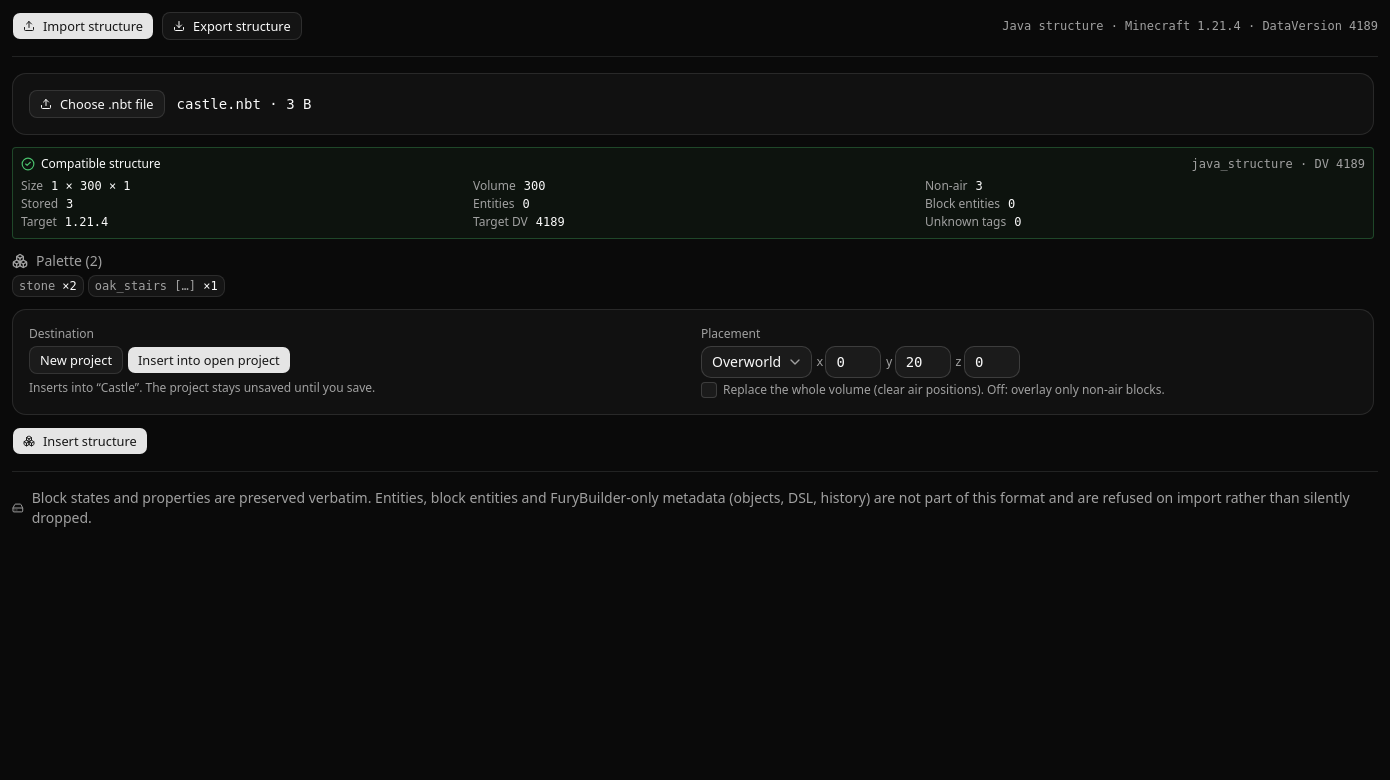
structure exchange › recomputes the default when placing a tall structure in a different dimension
This screenshot has width=1390, height=780.
Earlier steps of the test are not shown.
Expected: the number field named "Origin y" holds "20", [895,346,951,378]
Click the dropdown named "Import dimension".
click(757, 362)  # box [701,346,812,378]
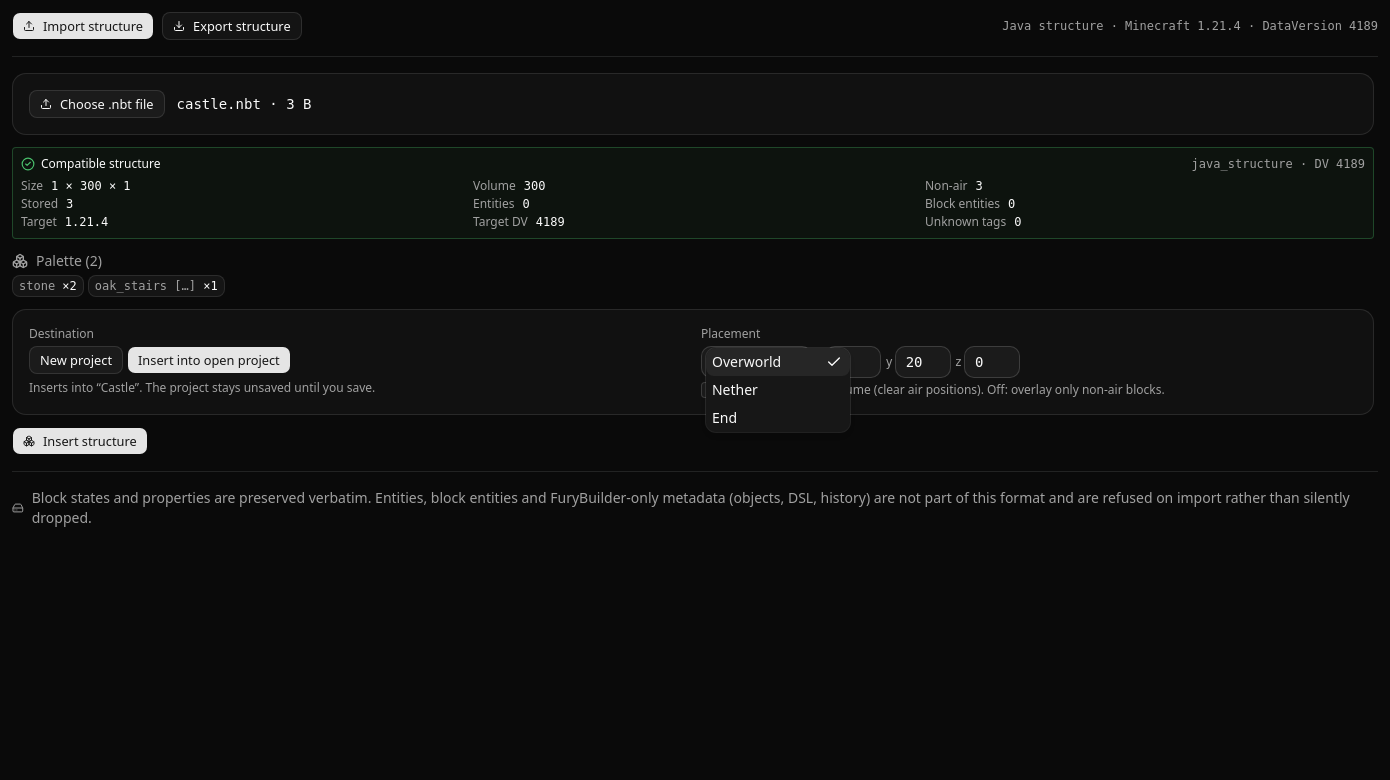
Click the option "End".
click(724, 418)  # box [712,408,737,427]
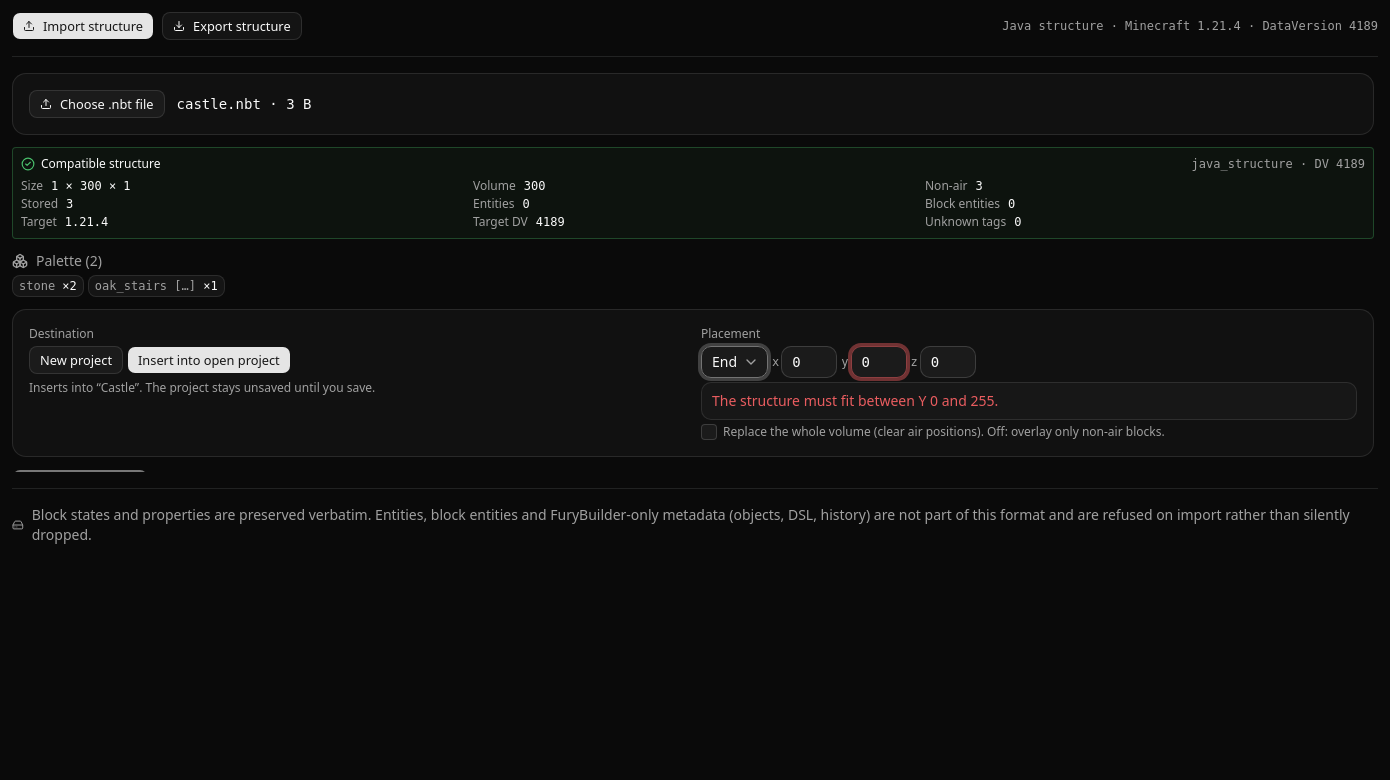
Expected: the number field named "Origin y" holds "0", [850,346,906,378]
Click the dropdown named "Import dimension".
click(734, 362)  # box [701,346,768,378]
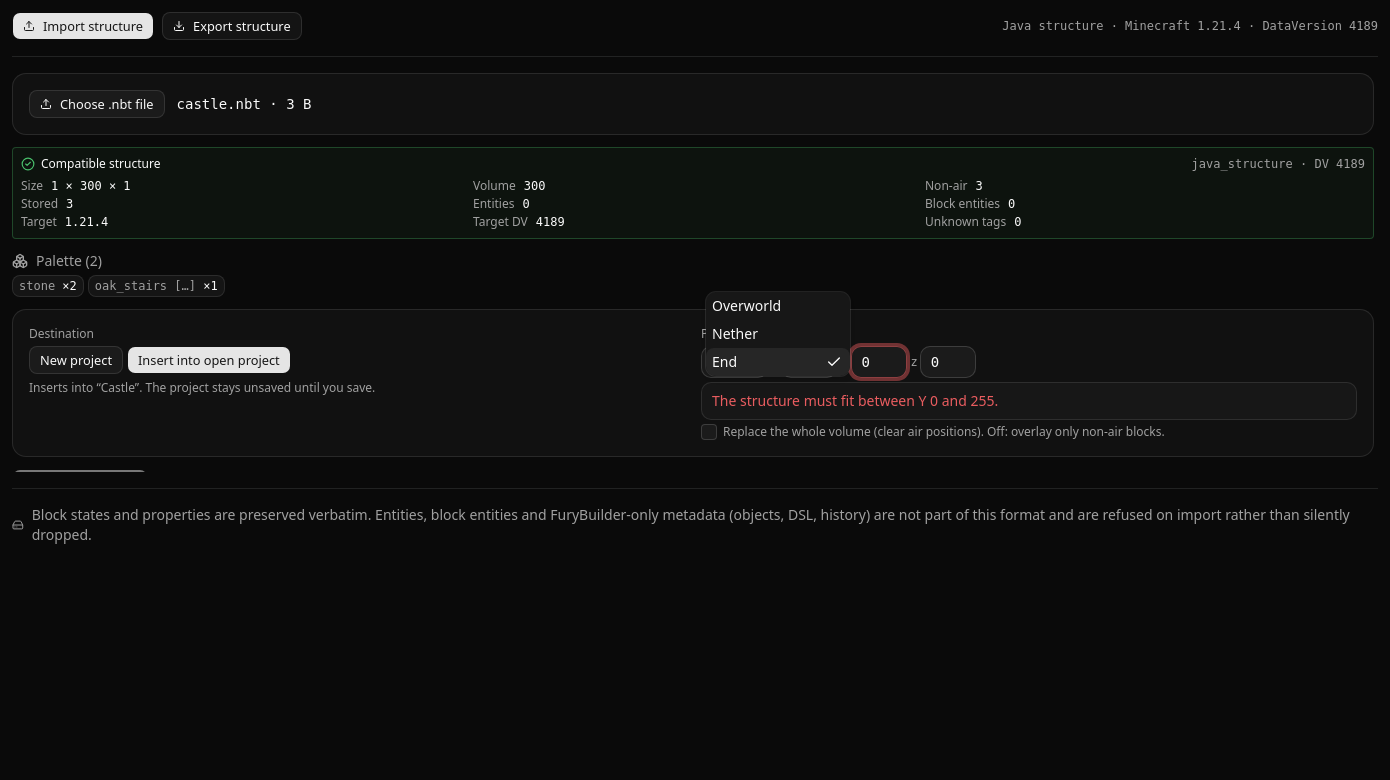
Click the option "Overworld".
click(747, 306)  # box [712,296,781,315]
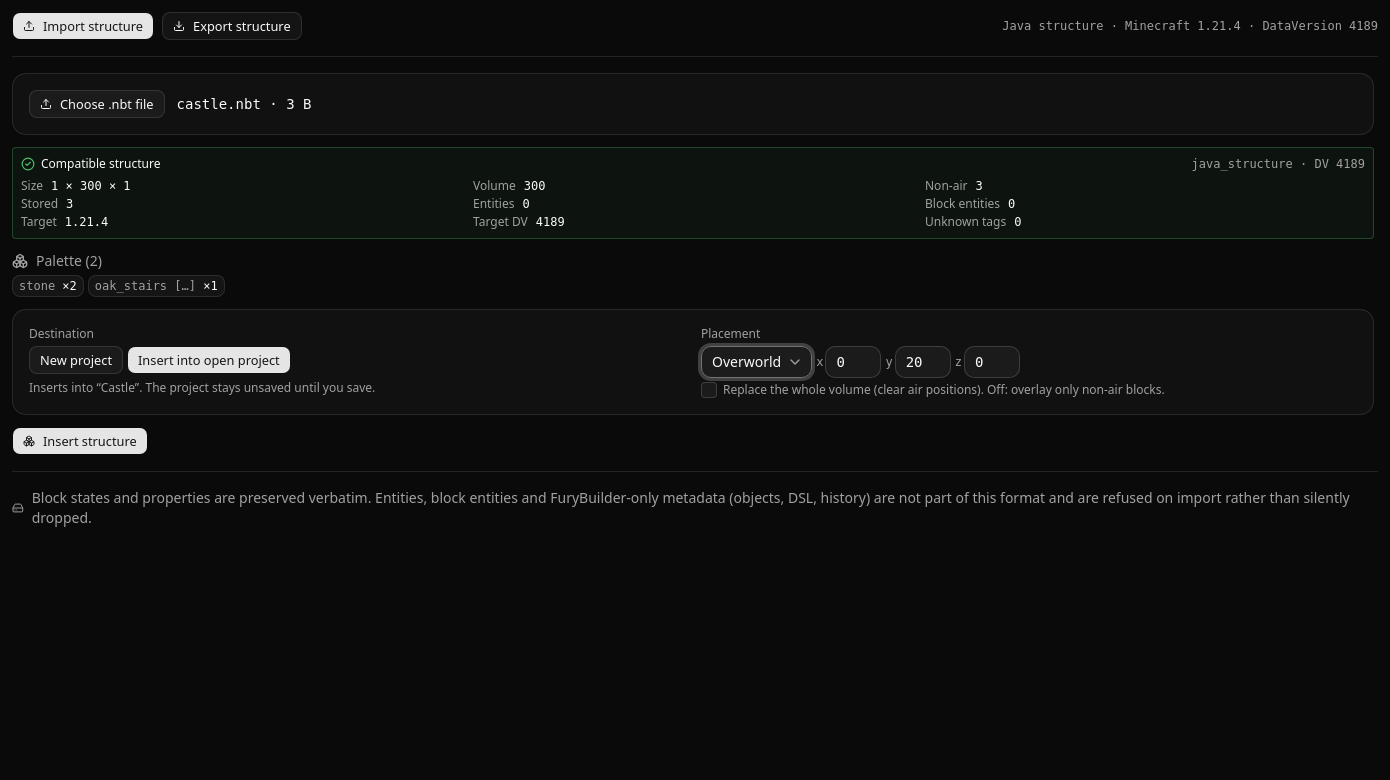
Expected: the number field named "Origin y" holds "20", [895,346,951,378]
Expected: the button "Insert structure" is enabled, [12,427,148,455]
